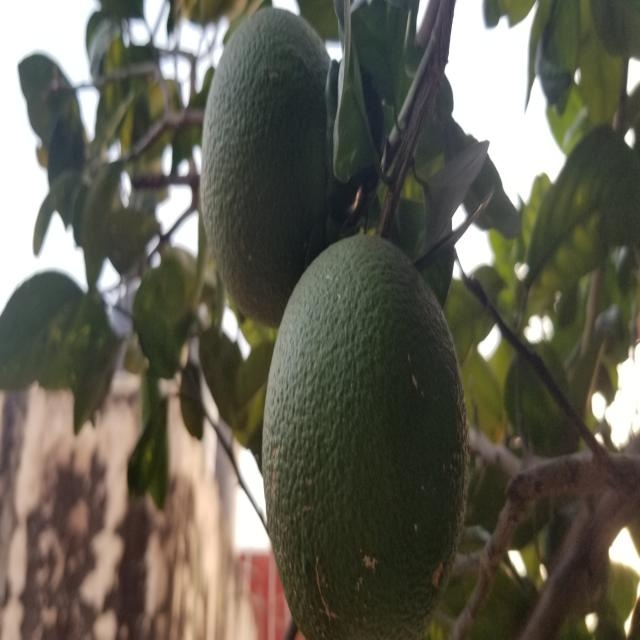agrume: (255, 228, 466, 640), (199, 4, 357, 336)
